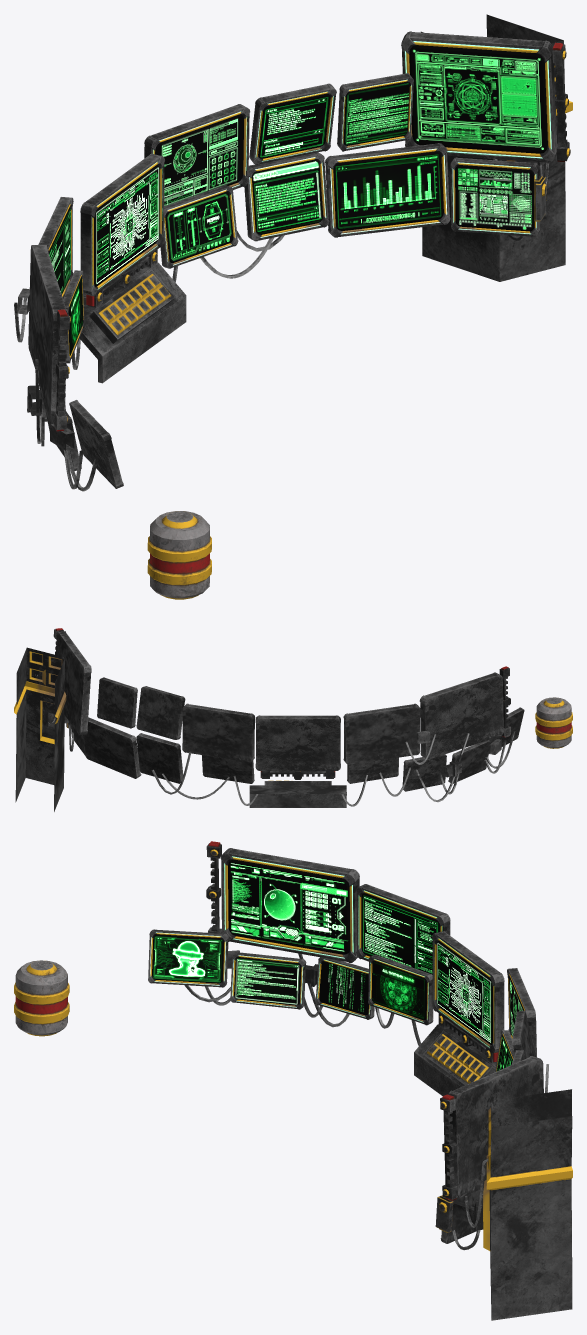
File: computer_sci-fi.glb
The picture shows the model from 3 angles, top to bottom: view 1: azimuth 30°, elevation 25°; view 2: azimuth 150°, elevation 25°; view 3: azimuth 270°, elevation 25°; orthographic projection. The views are drawn at different scales.
Parts seen in each view (by area): view 1: FRONT_Ordinateur; view 2: FRONT_Ordinateur; view 3: FRONT_Ordinateur.
Part boxes in pixels (x1,y1,x2,y2): FRONT_Ordinateur: (14, 14, 572, 599); FRONT_Ordinateur: (14, 628, 572, 811); FRONT_Ordinateur: (14, 841, 572, 1320).
Size of the model in its own units: 15.03 by 5.26 by 12.48.
Materials: 1 (1 with a texture image).
